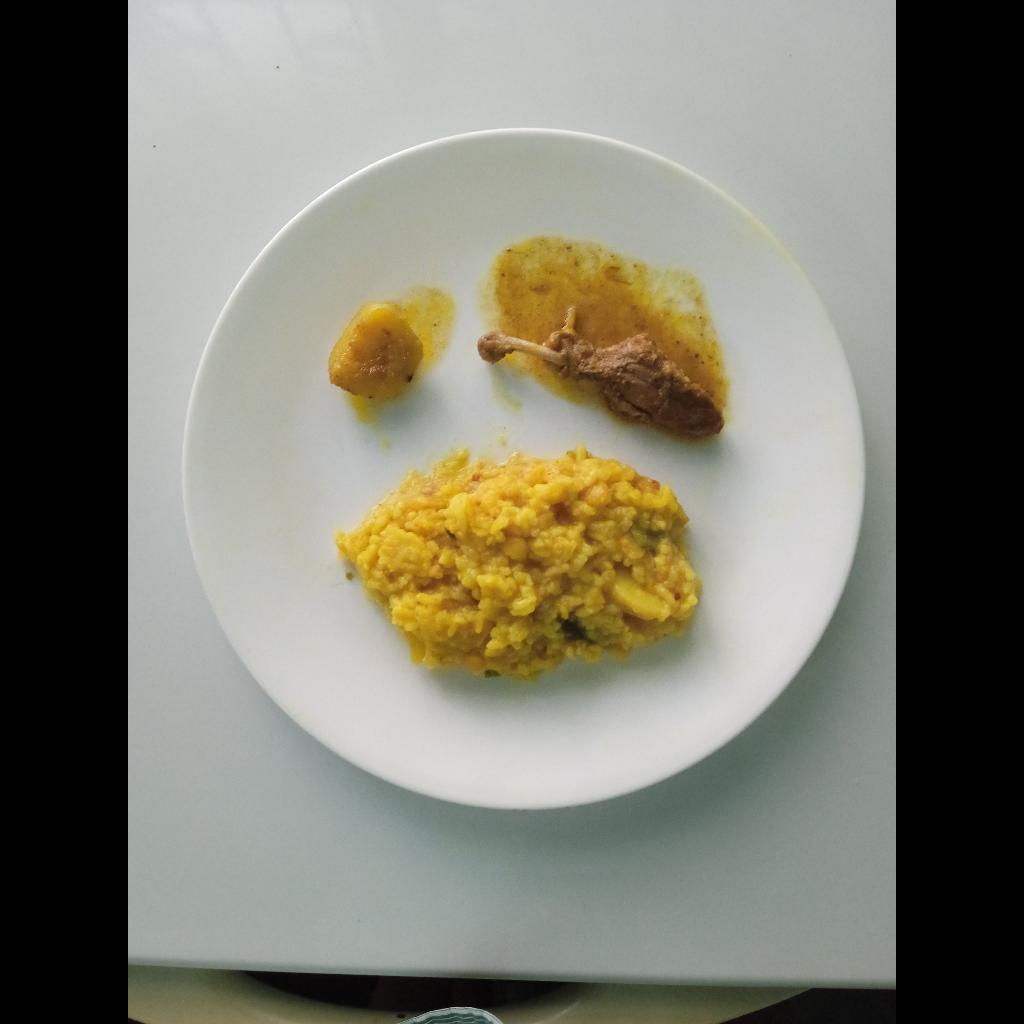chicken: (477, 306, 721, 441)
potato: (329, 304, 426, 404)
rice: (332, 449, 706, 677)
